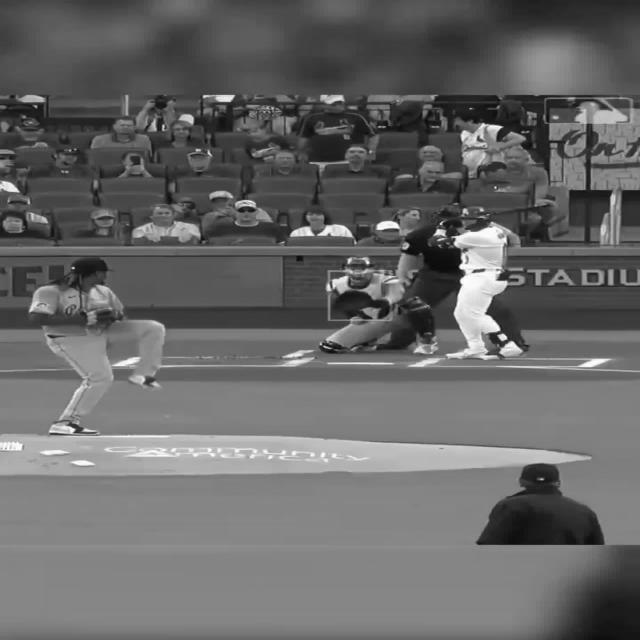base: (327, 360, 394, 366)
baseball_glove: (81, 306, 121, 328), (331, 289, 370, 310)
bat: (496, 202, 554, 218)
shoe: (48, 418, 102, 437), (406, 338, 438, 357), (128, 377, 162, 392), (450, 348, 486, 361)
